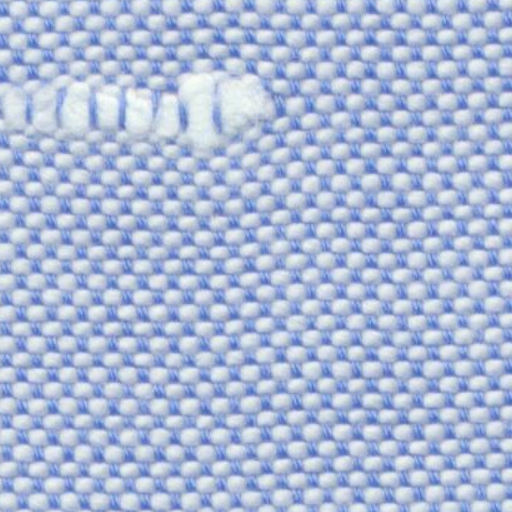DaiSha: (4, 52, 296, 152)
